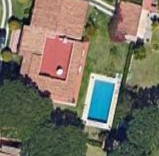pool: (92, 78, 109, 121)
